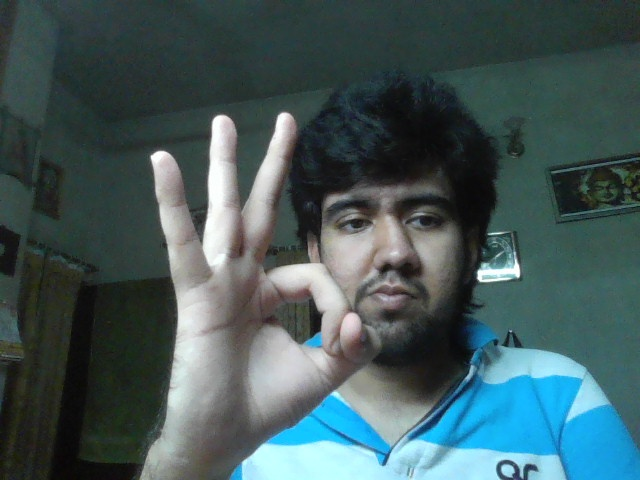Nice: (150, 111, 380, 439)
